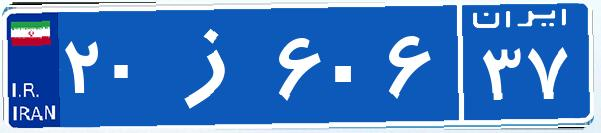0: (330, 28, 385, 110), (110, 28, 158, 105)
2: (57, 26, 110, 107)
3: (475, 38, 525, 113)
6: (385, 28, 445, 110), (273, 28, 330, 110)
7: (525, 38, 570, 115)
ز: (158, 15, 273, 115)
